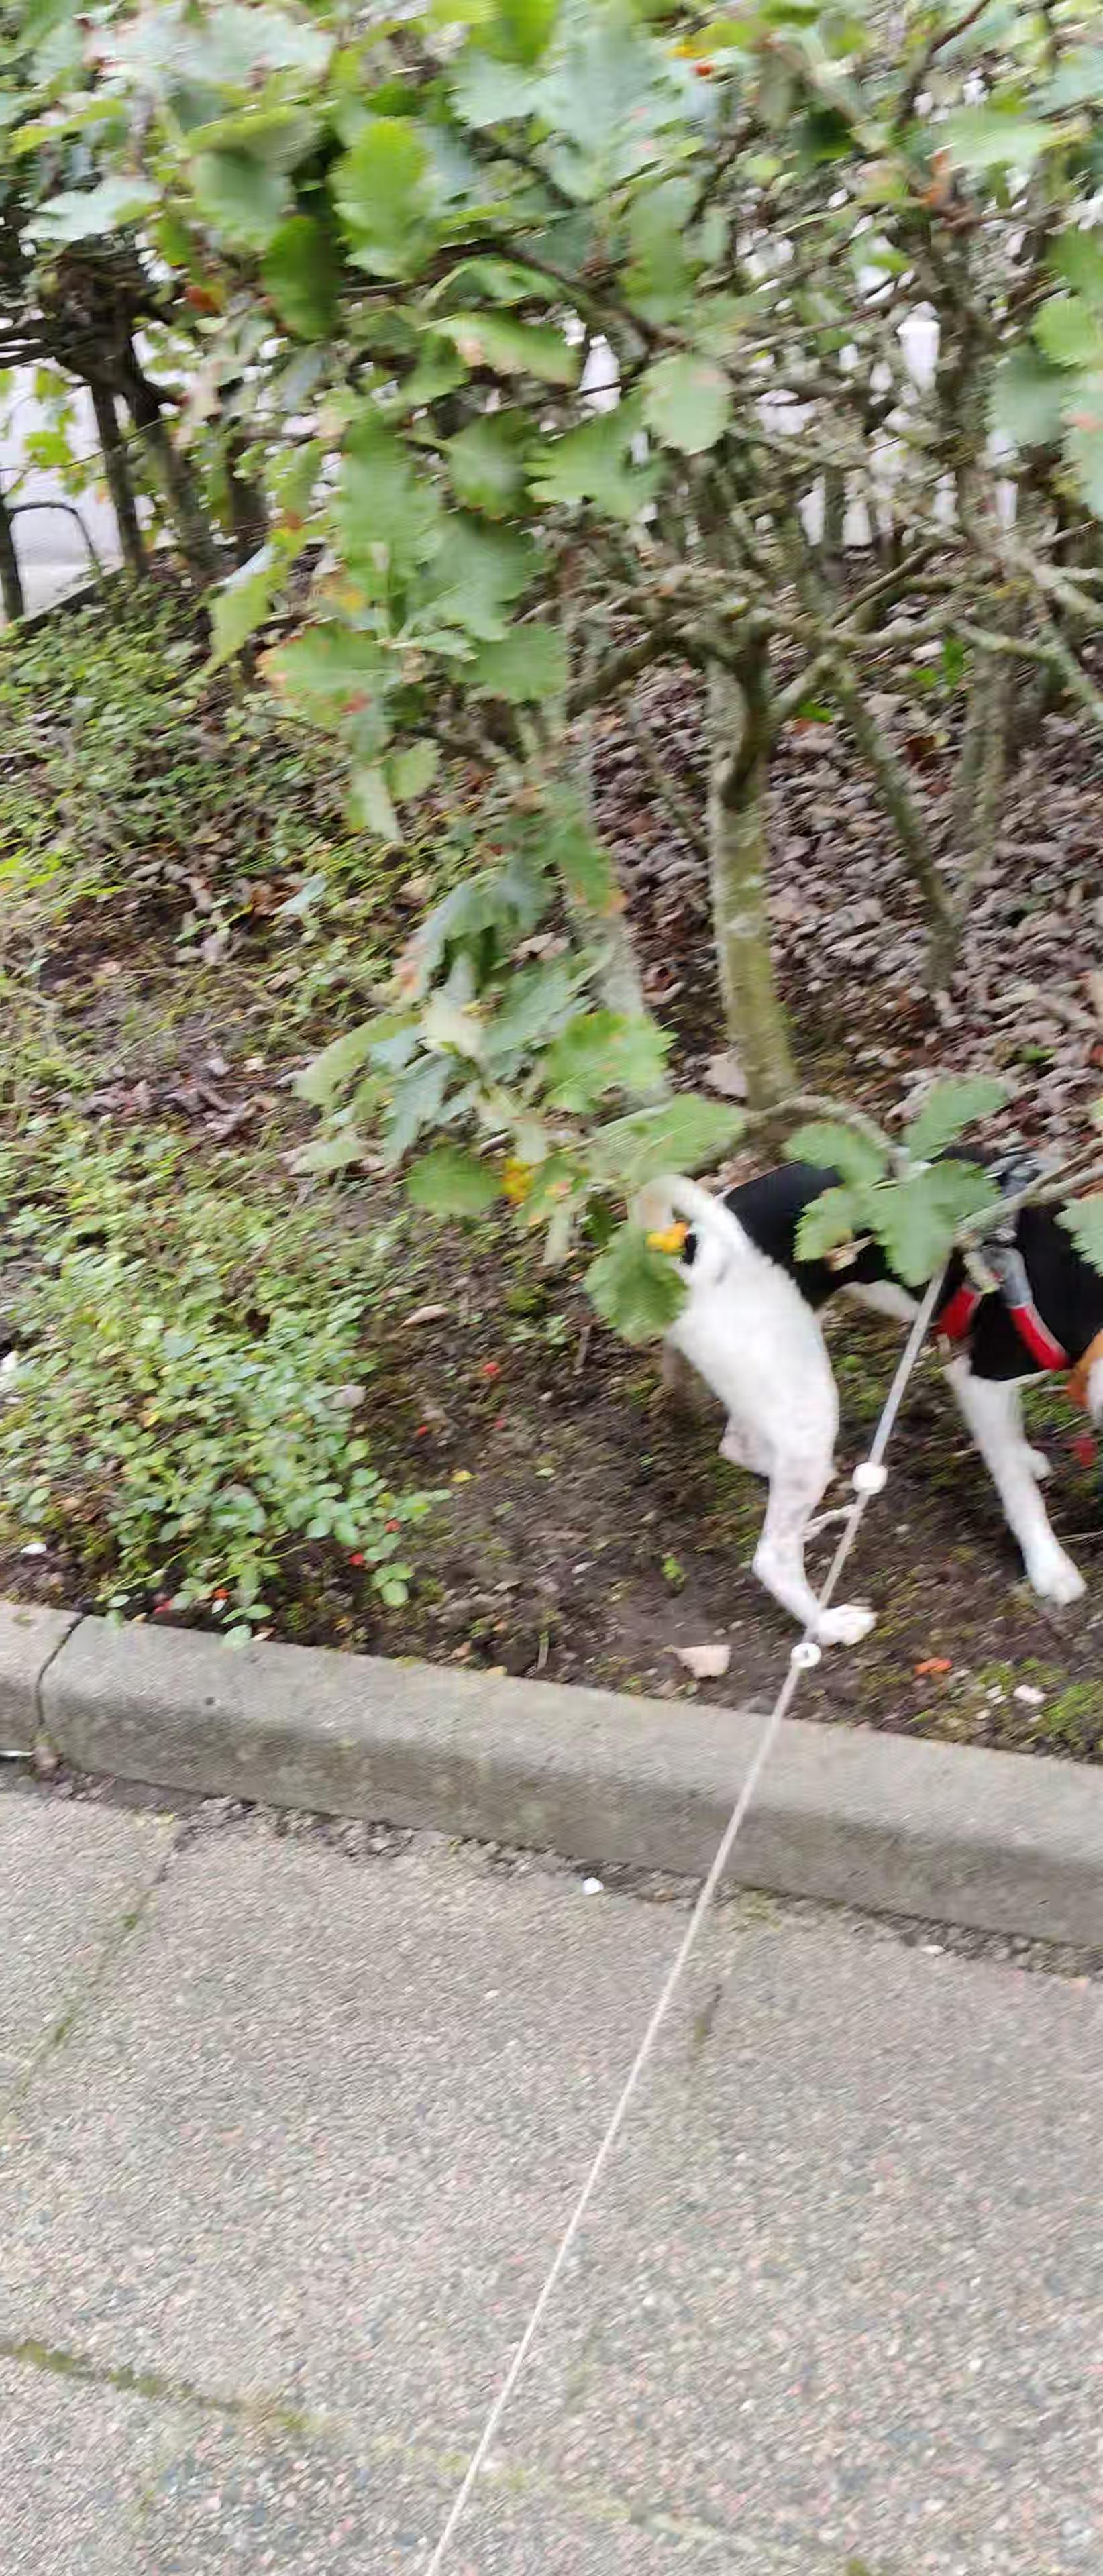Dog: (608, 1135, 1103, 1654)
